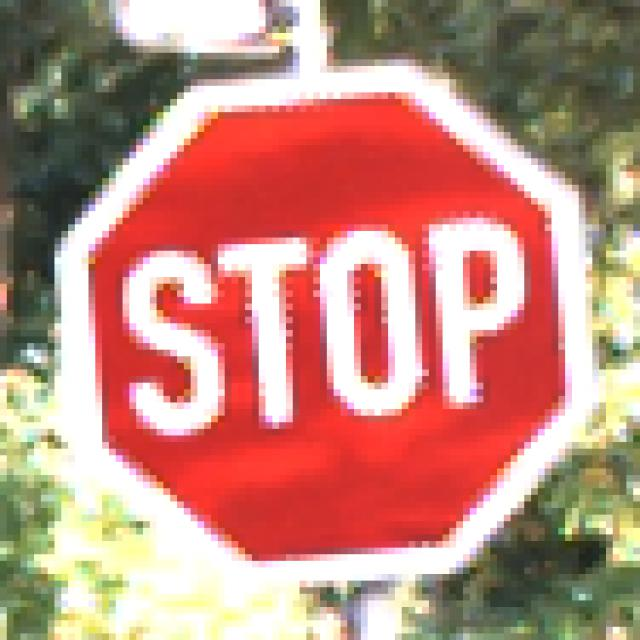STOP: (56, 61, 587, 589)
